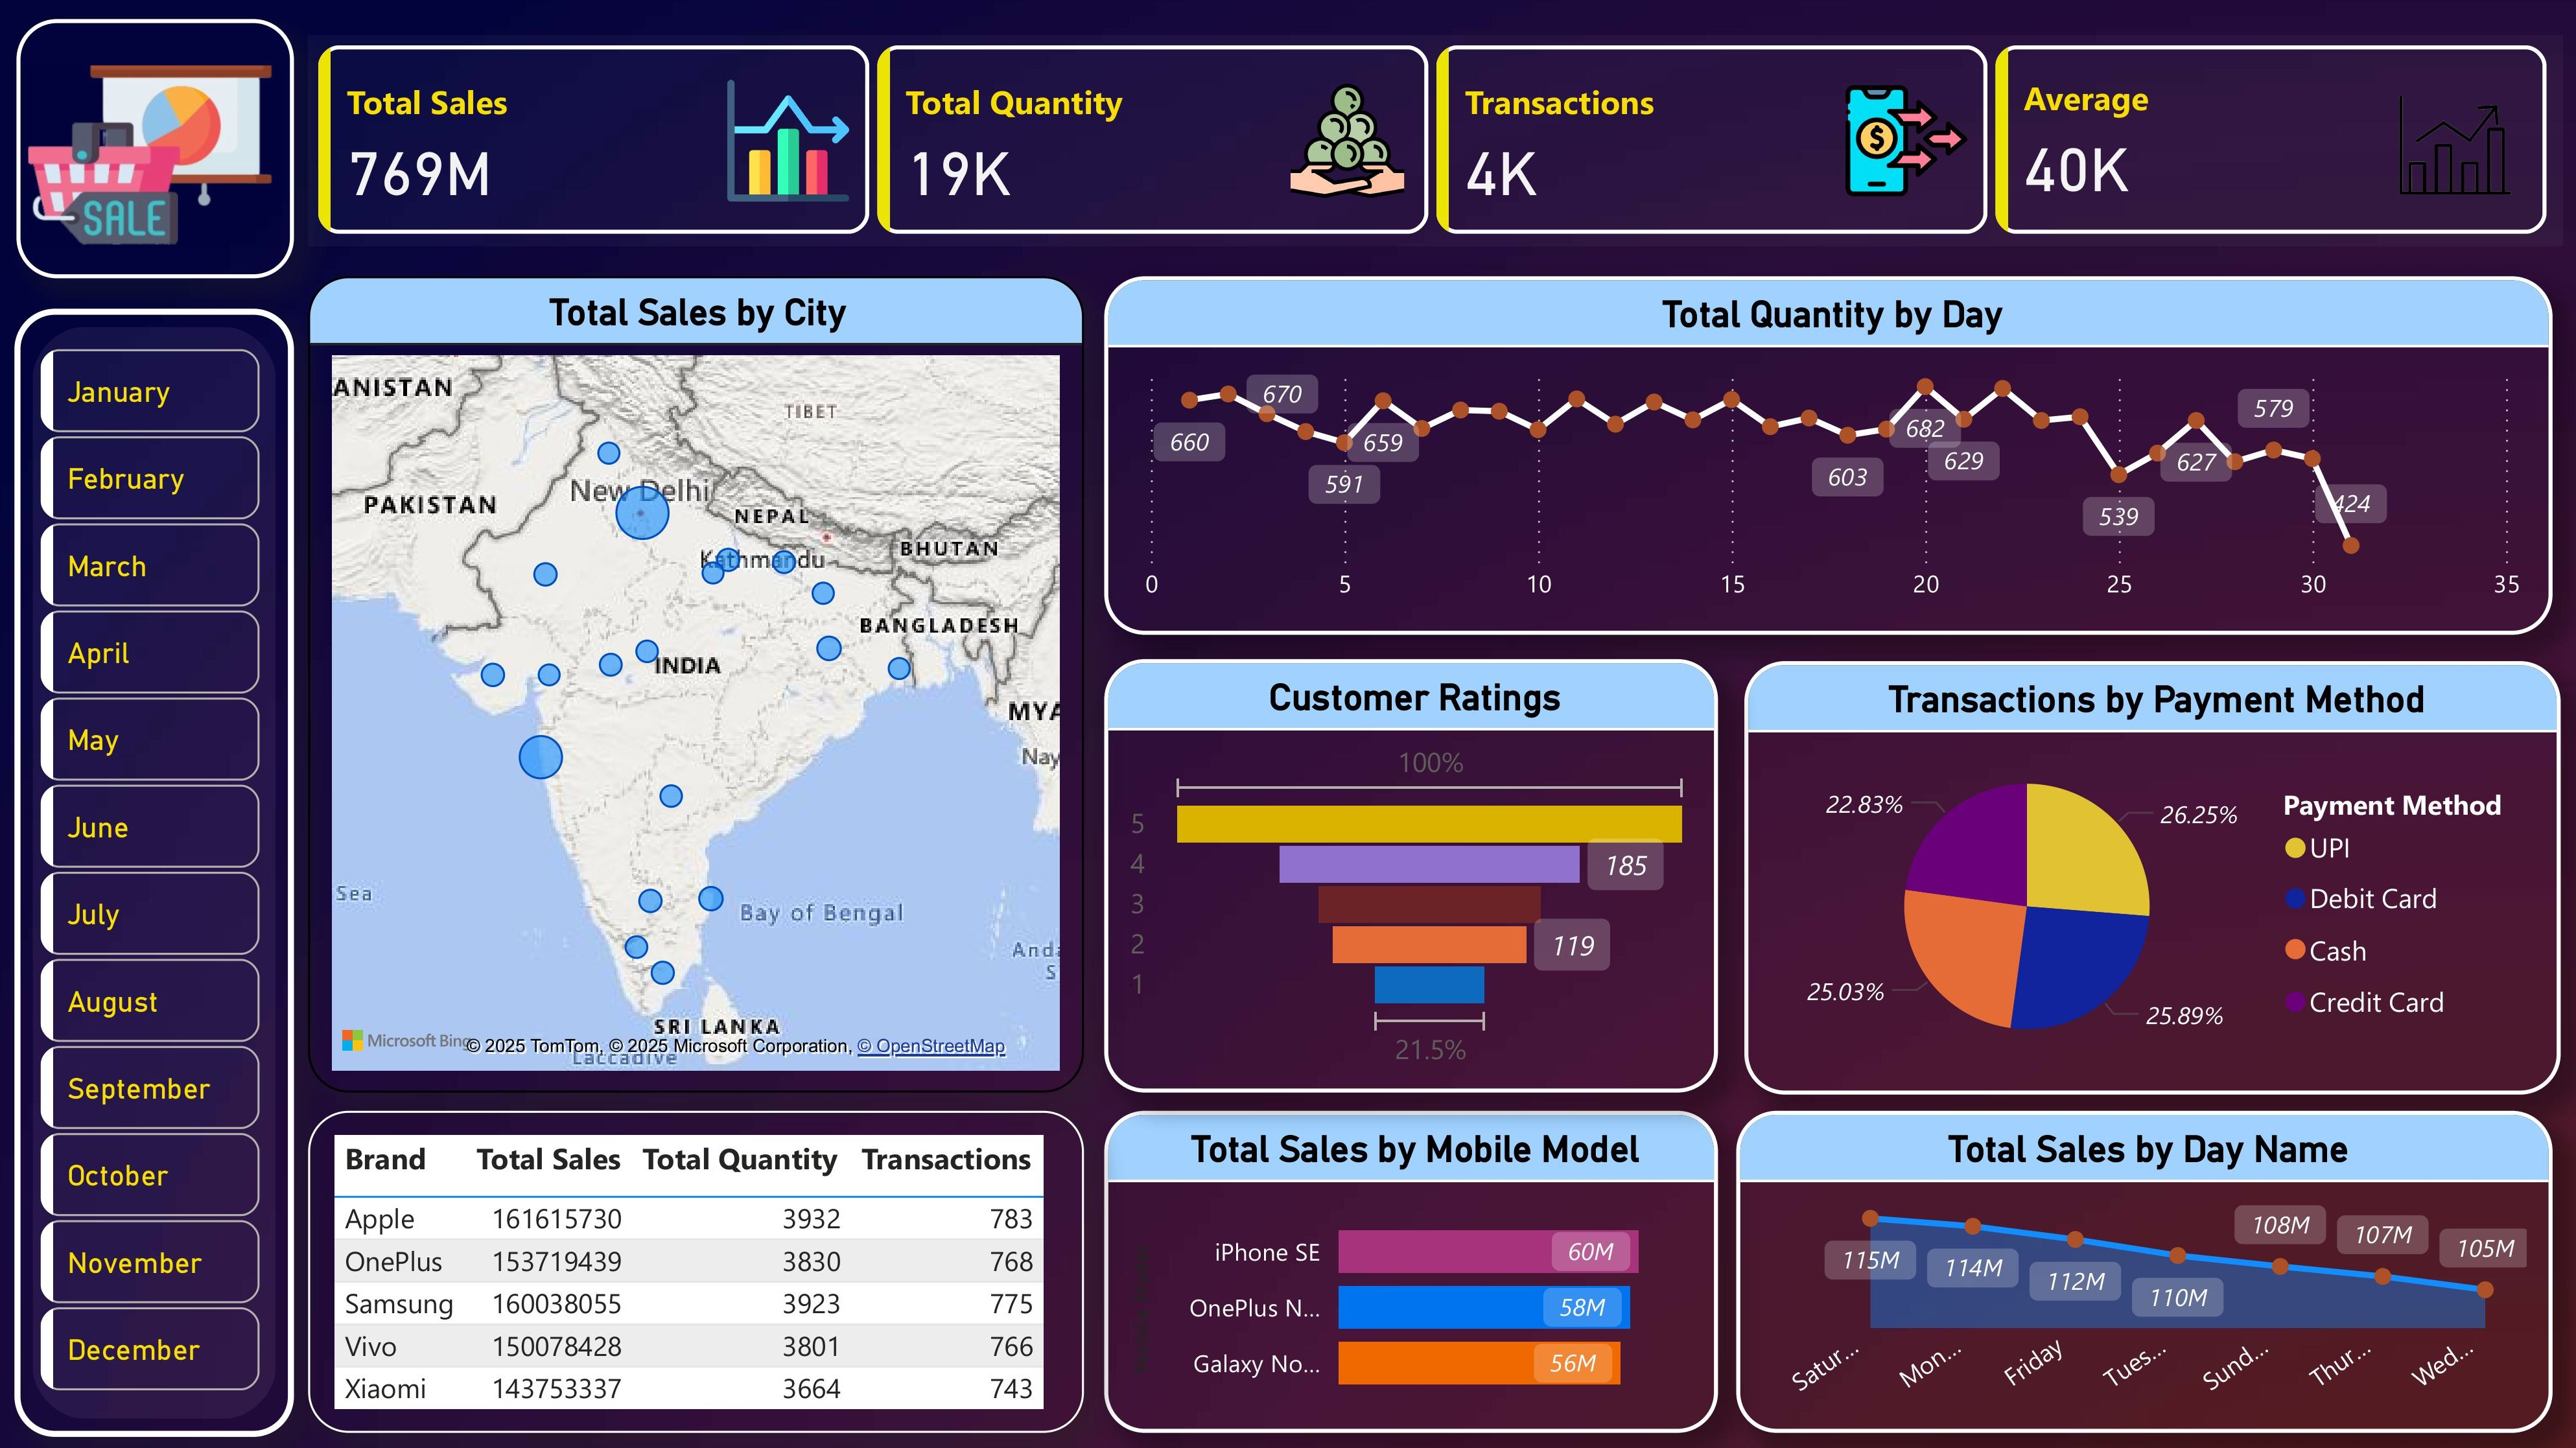

Layout of this report page (visuals, bound fields, positions):
{"tool":"powerbi","page":{"name":"Page 1","canvas":[1280,720],"ordinal":0},"visuals":[{"type":"shape","box":[10.9,10.9,137.5,127.9],"z":0},{"type":"shape","box":[10,154,138,557],"z":1000},{"type":"advancedSlicerVisual","fields":{"Values":["Sales Data.Date.Variation.Date Hierarchy.Month"]},"box":[18.1,168.9,118.2,534.5],"z":2000},{"type":"cardVisual","fields":{"Data":["Sales Data.Total Sales","Sales Data.Total Quantity","Sales Data.Transactions","Sales Data.Average"]},"box":[155,18.8,1112.5,103.8],"z":3000},{"type":"map","fields":{"Category":["Sales Data.City"],"Size":["Sales Data.Total Sales"]},"box":[155,137.5,382.5,403.8],"z":4000},{"type":"lineChart","fields":{"Y":["Sales Data.Total Quantity"],"Category":["Sales Data.Date.Variation.Date Hierarchy.Month","Sales Data.Date.Variation.Date Hierarchy.Day"]},"box":[547.5,137.5,715,177.5],"z":5000},{"type":"clusteredBarChart","fields":{"Category":["Sales Data.Mobile Model"],"Y":["Sales Data.Total Sales"]},"box":[548,550,303,159],"z":6000},{"type":"pieChart","fields":{"Category":["Sales Data.Payment Method"],"Y":["Sales Data.Transactions"]},"box":[863.8,328.2,403,213.5],"z":7000},{"type":"funnel","title":"Customer Ratings","fields":{"Category":["Sales Data.Customer Ratings"],"Y":["CountNonNull(Sales Data.Customer Ratings)"]},"box":[547.5,326.6,303.3,214.1],"z":8000},{"type":"areaChart","fields":{"Category":["Sales Data.Day Name"],"Y":["Sales Data.Total Sales"]},"box":[860,550,403,159],"z":9000},{"type":"tableEx","fields":{"Values":["Sales Data.Brand","Sales Data.Total Sales","Sales Data.Total Quantity","Sales Data.Transactions"]},"box":[155,550,383,159],"z":10000},{"type":"image","box":[7.2,10.9,139.9,136.3],"z":11000}]}

Visuals, with their boxes in screenshot pixels (x1, y1, x2, y2), scaled from the page's 1280x720 canvas onto the 2576x1448 screenshot:
shape: <box>22,22,299,279</box>
shape: <box>20,310,298,1430</box>
advancedSlicerVisual - Sales Data.Date.Variation.Date Hierarchy.Month: <box>36,340,274,1414</box>
cardVisual - Sales Data.Total Sales x Sales Data.Total Quantity: <box>312,38,2551,246</box>
map - Sales Data.City x Sales Data.Total Sales: <box>312,277,1082,1089</box>
lineChart - Sales Data.Total Quantity x Sales Data.Date.Variation.Date Hierarchy.Month: <box>1102,277,2541,633</box>
clusteredBarChart - Sales Data.Mobile Model x Sales Data.Total Sales: <box>1103,1106,1713,1426</box>
pieChart - Sales Data.Payment Method x Sales Data.Transactions: <box>1739,660,2549,1090</box>
"Customer Ratings" funnel: <box>1102,657,1712,1088</box>
areaChart - Sales Data.Day Name x Sales Data.Total Sales: <box>1731,1106,2542,1426</box>
tableEx - Sales Data.Brand x Sales Data.Total Sales: <box>312,1106,1083,1426</box>
image: <box>14,22,296,296</box>
